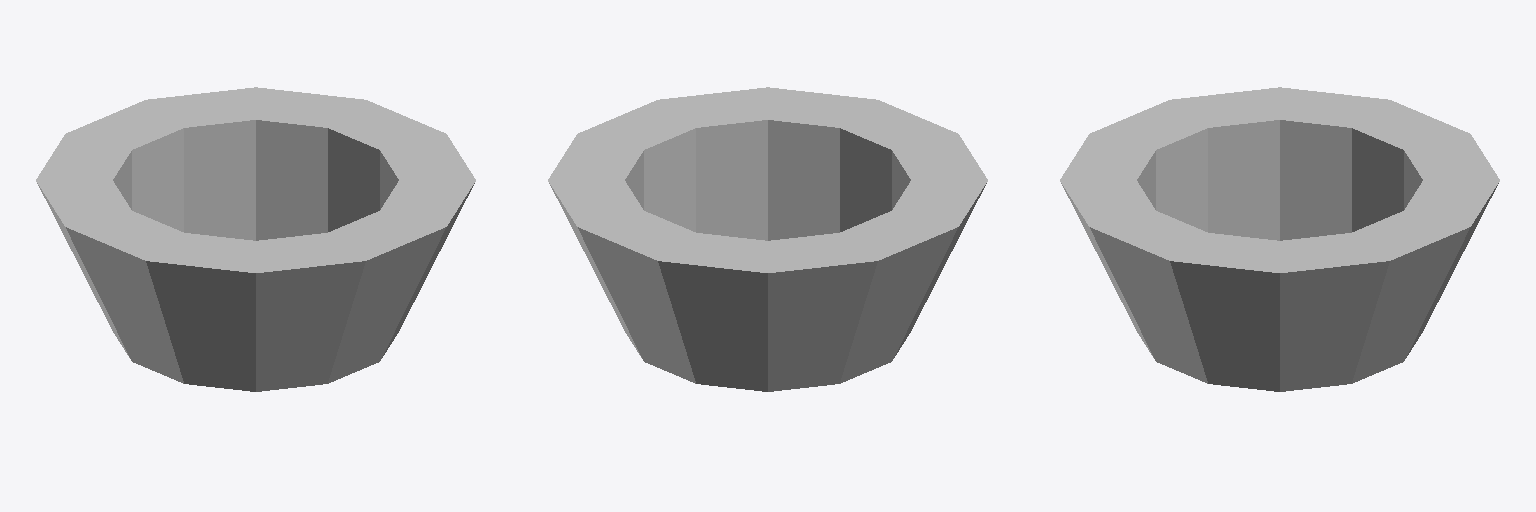
File: Bench.obj
3 renders of one model, left to right at view 1: azimuth 30°, elevation 25°; view 2: azimuth 150°, elevation 25°; view 3: azimuth 270°, elevation 25°, orthographic.
Visible parts, largest first — view 1: Bench; view 2: Bench; view 3: Bench.
Boxes of the visible parts, x1=… form: Bench: x1=36, y1=87, x2=475, y2=391; Bench: x1=548, y1=87, x2=987, y2=391; Bench: x1=1060, y1=87, x2=1499, y2=391.
Bounding box in the file's own units: 2.4 × 0.9093 × 2.4.